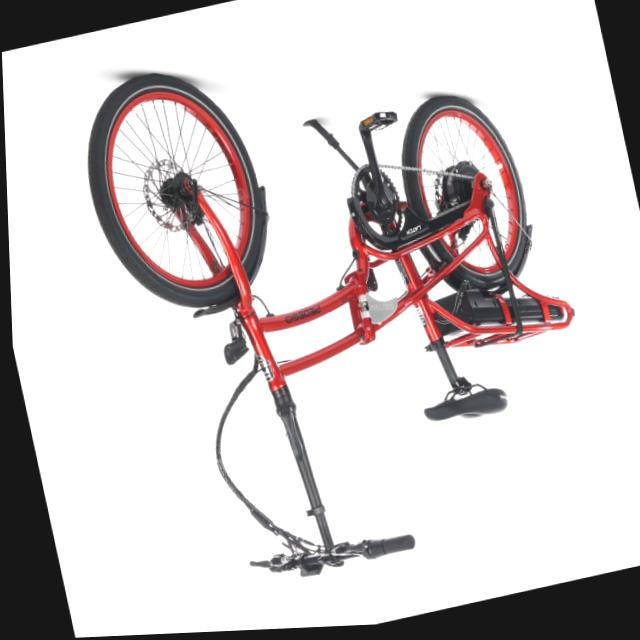folding-bike: (62, 0, 620, 612)
